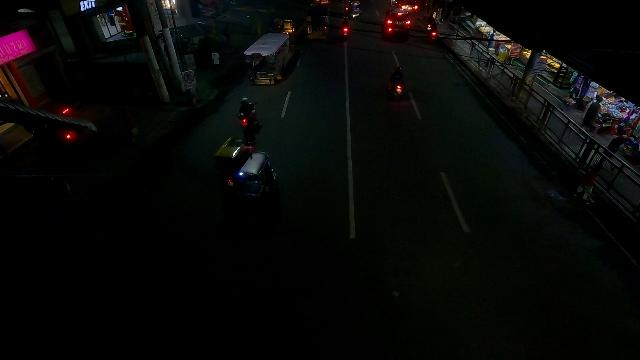car: (215, 139, 278, 198), (383, 9, 411, 41), (400, 2, 419, 13)
jeepney: (244, 31, 294, 83)
motorcycle: (238, 97, 260, 139), (389, 65, 404, 100), (427, 21, 439, 42), (340, 17, 350, 40)
